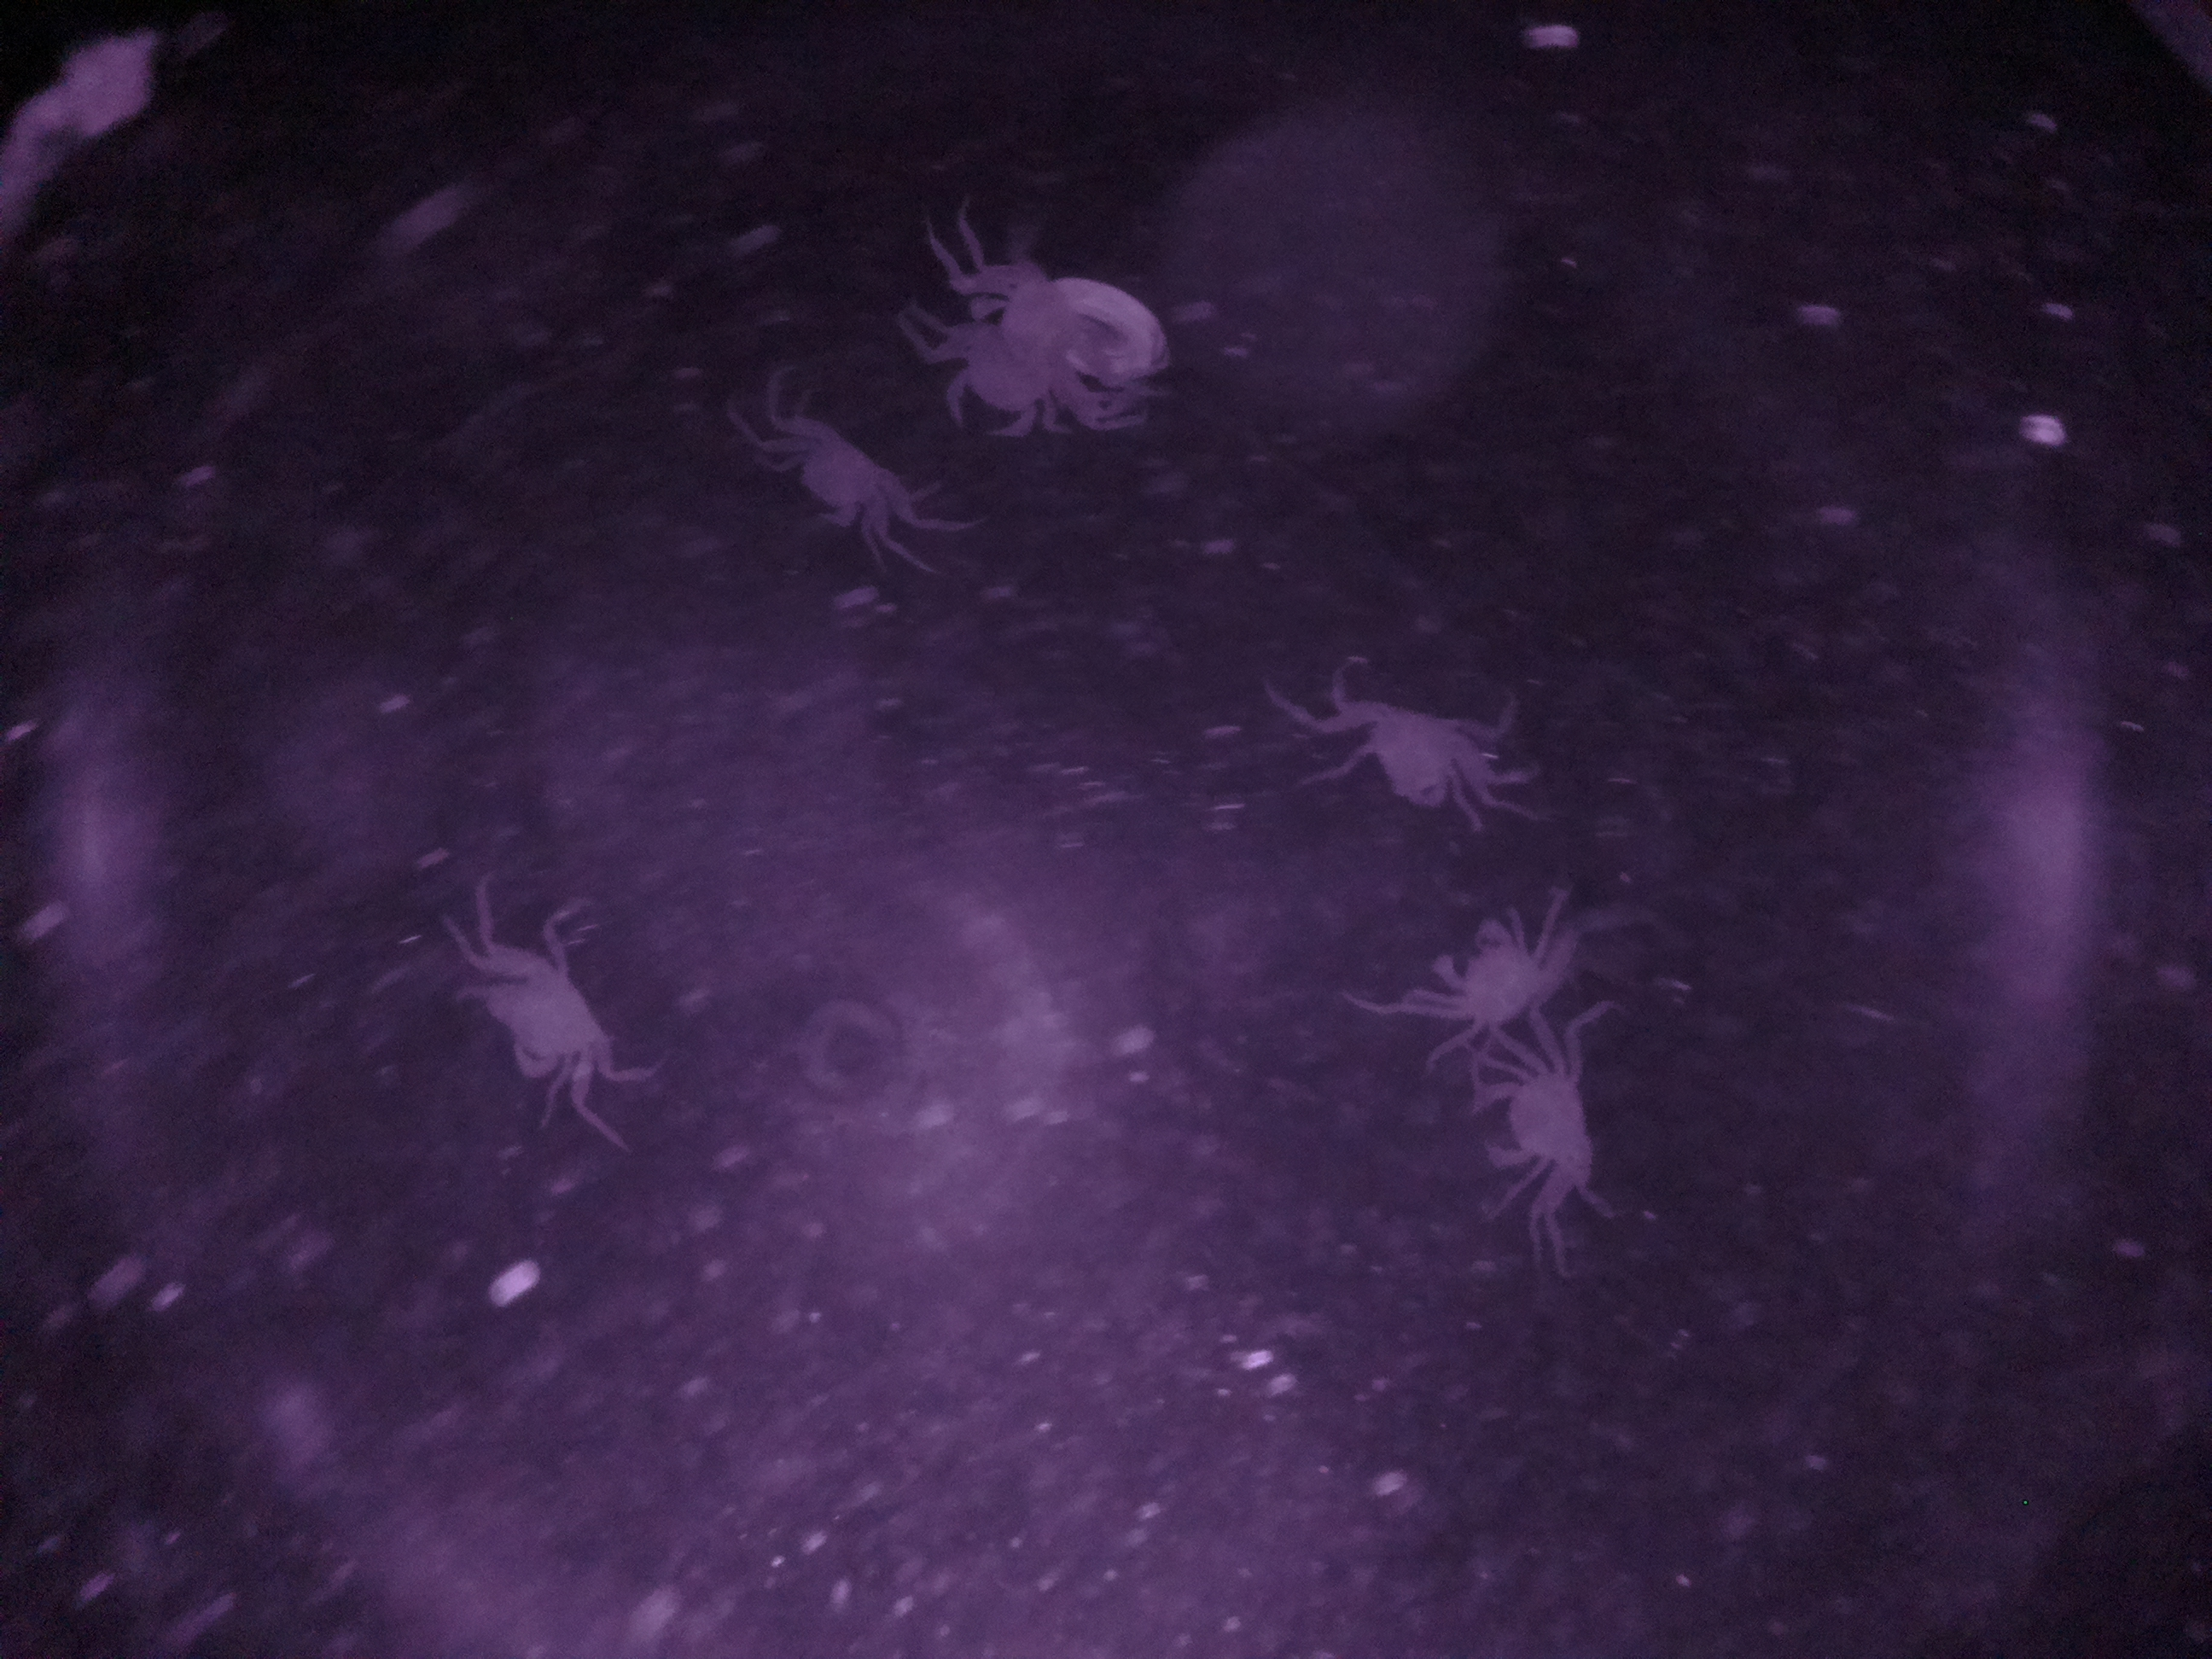Crab: (451, 908, 648, 1117), (744, 375, 942, 556), (1460, 1019, 1618, 1225)
